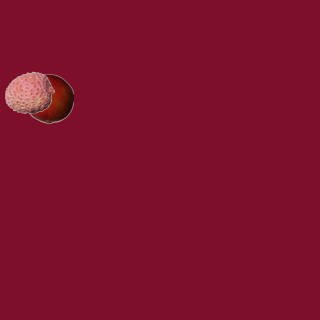Apple Braeburn: (23, 73, 73, 123)
Lychee: (4, 67, 54, 117)
